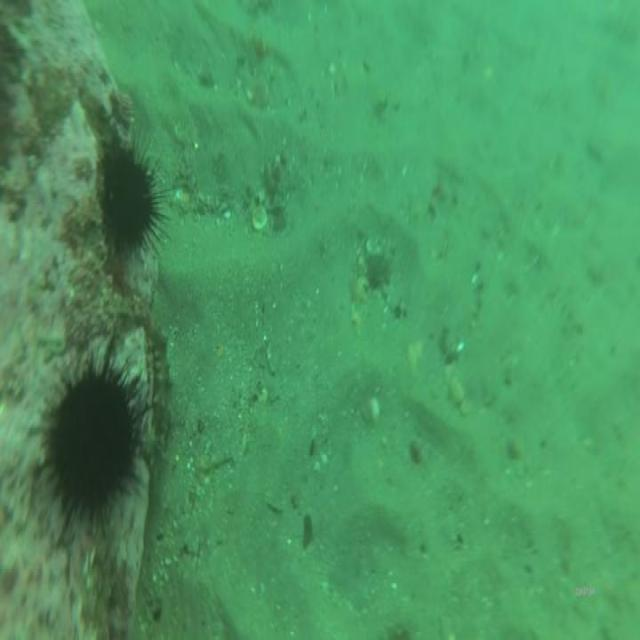echinus: (44, 363, 136, 530), (98, 133, 160, 273)
holothurian: (148, 324, 172, 442)
